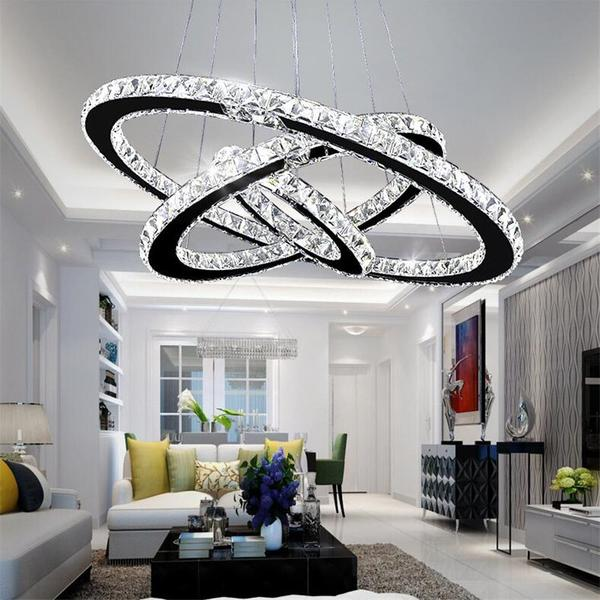chandelier: (71, 1, 537, 297)
